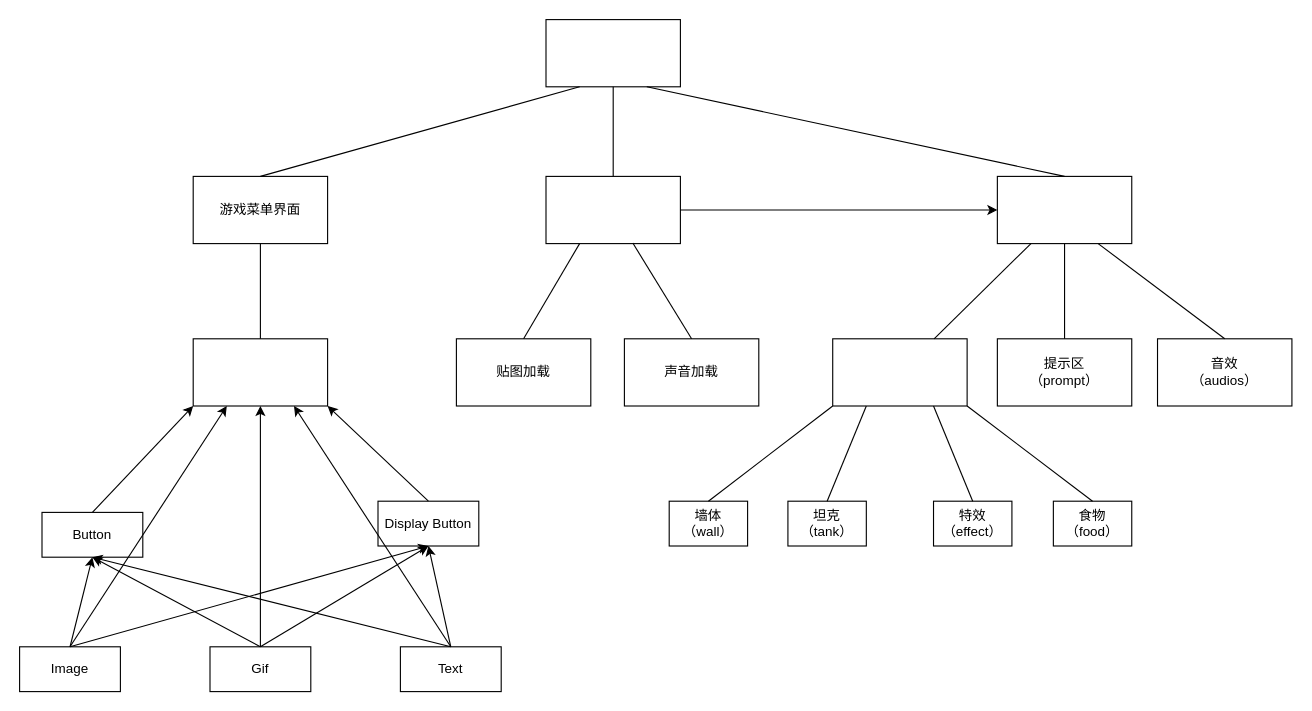
Some shapes in this 1312 by 711 pixel diagram are drawn without their labels. Here are the shapes that lost their labels. From the top down, the centre of each, then its label:
the point at 612,52: 坦克大战
the point at 612,209: 资源加载（load_geme）
the point at 1064,209: 游戏运行界面
the point at 260,372: Menu
the point at 899,372: 地图元素 （element）
